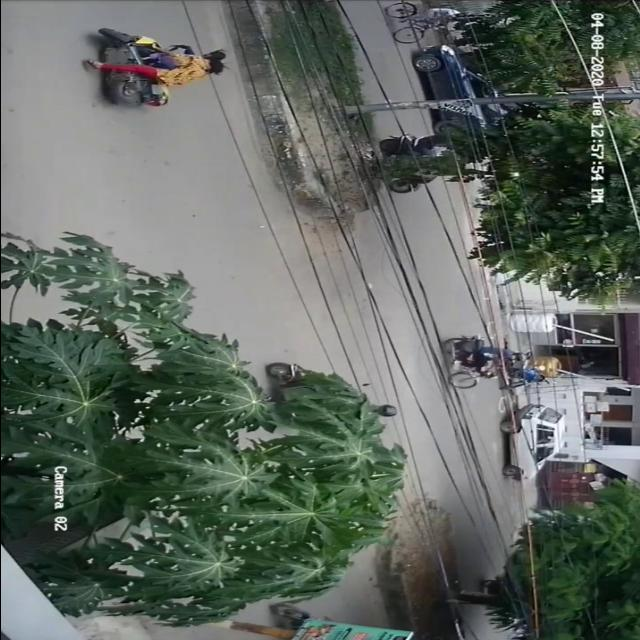accident: (73, 16, 243, 112)
